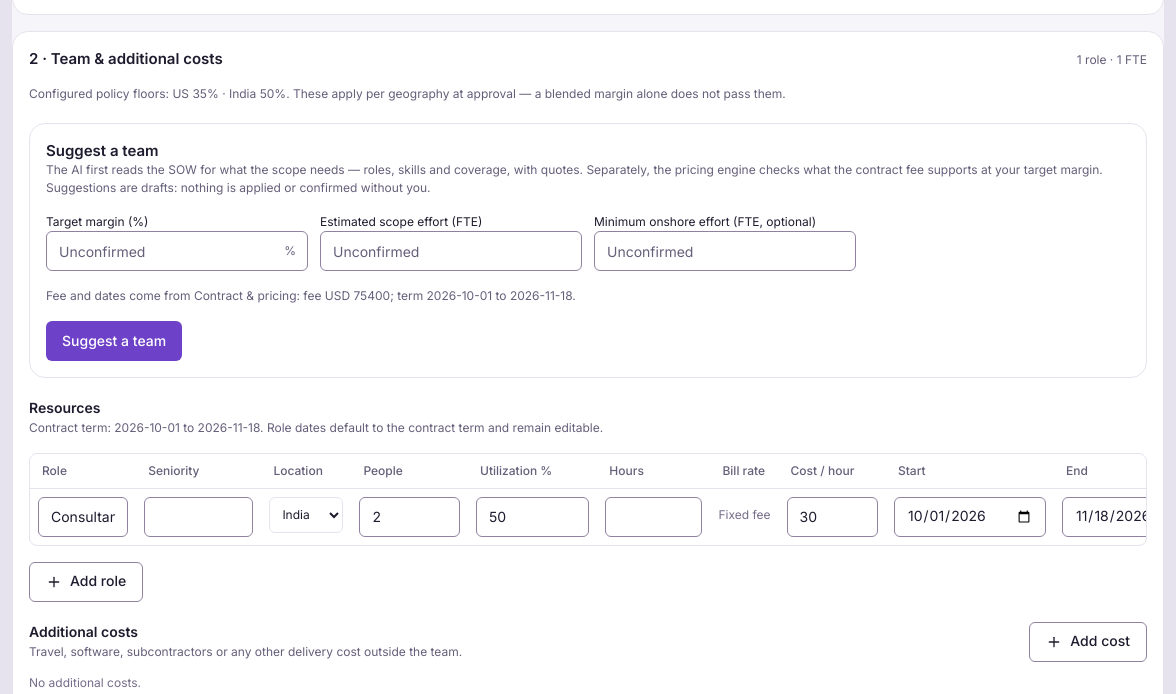
Test: Staffing & GM simplified plan › a green margin cannot hide understaffing: the gap alert shows with a feasible-looking mix
(page scrolled)
Deliberate regeneration (staffing is non-empty so no auto-run).
Click the button with test id "plan-team-advise": (114, 341) [46,321,182,361]
(page scrolled)
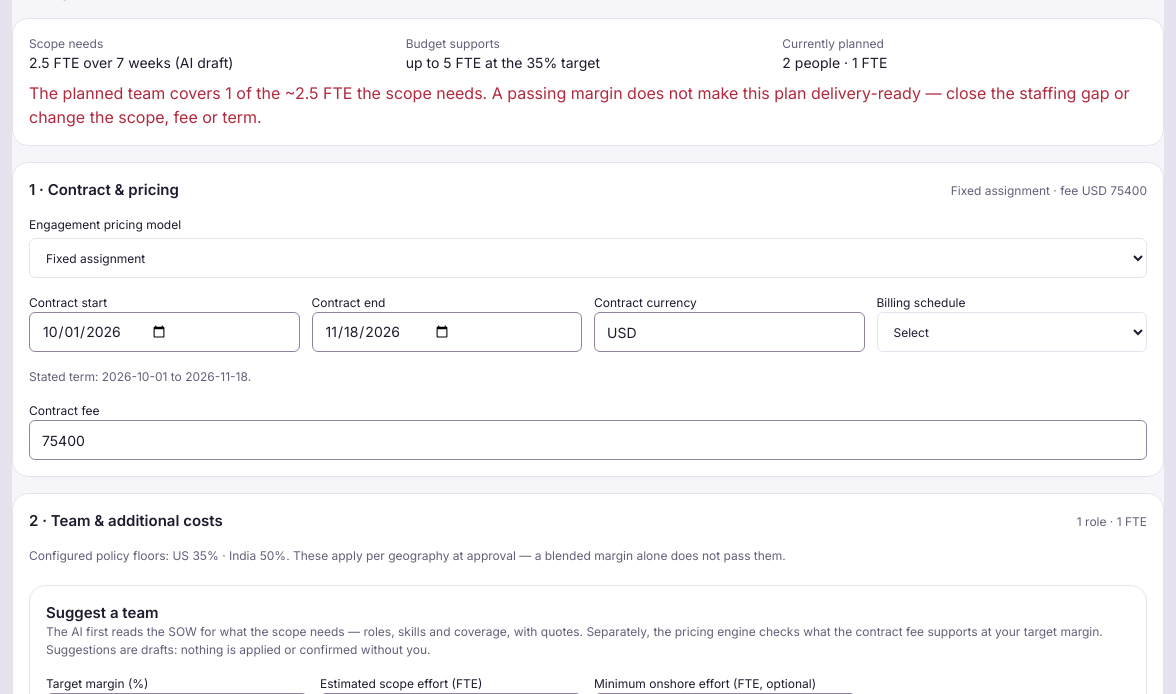
expect the message with test id "summary-understaffed" shows "1 of the ~2.5 FTE": met, box [29,81,1147,129]
expect the message with test id "summary-understaffed" shows "passing margin does not make this plan delivery-ready": met, box [29,83,1130,127]
